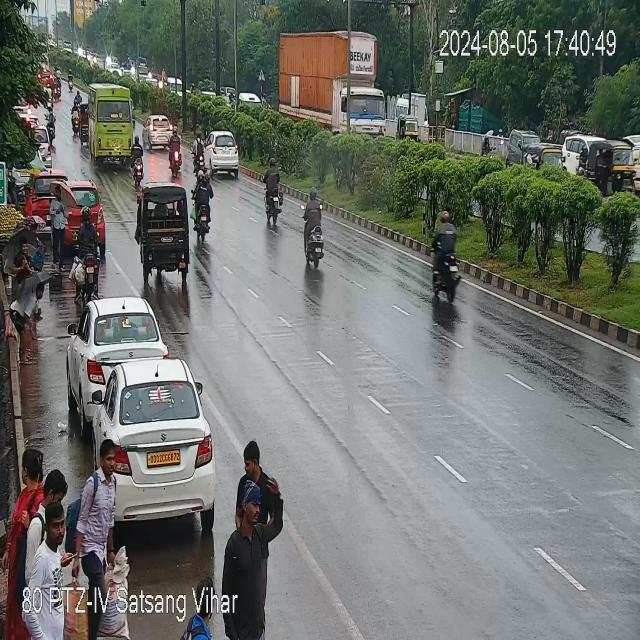2-wheelers: (424, 207, 469, 302), (298, 187, 329, 270), (70, 205, 104, 280), (192, 174, 218, 242), (263, 162, 287, 227), (130, 128, 146, 180), (170, 133, 183, 172), (70, 97, 80, 138), (194, 130, 203, 164), (47, 104, 54, 144), (52, 80, 64, 102), (68, 68, 74, 90), (76, 91, 82, 105)
auto: (136, 180, 194, 284), (568, 133, 637, 190), (531, 139, 557, 175), (77, 100, 89, 144)
bus: (84, 87, 140, 173)
car: (87, 364, 216, 530), (74, 295, 164, 407), (67, 181, 108, 249), (201, 130, 242, 176), (32, 173, 53, 227), (144, 116, 176, 150), (36, 125, 52, 163)
pedestrian: (222, 478, 276, 614), (15, 448, 76, 561), (79, 436, 124, 584), (232, 429, 280, 519), (12, 278, 44, 348), (50, 183, 64, 270), (16, 241, 33, 272), (22, 184, 34, 217)
truck: (272, 22, 392, 137)
